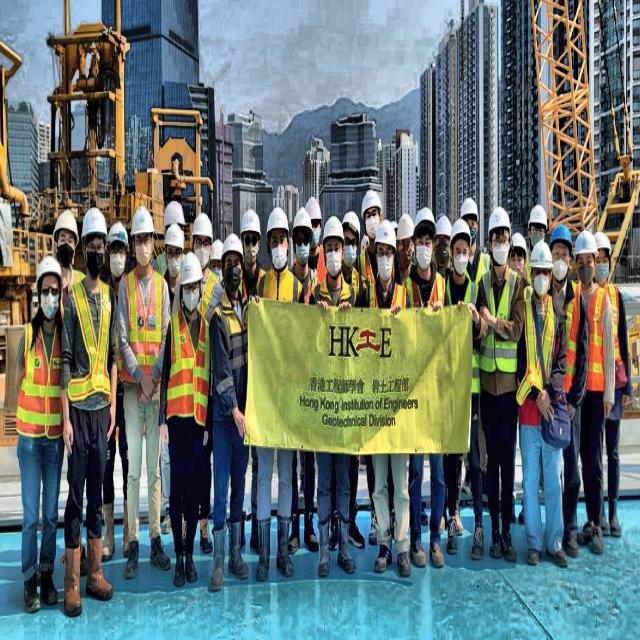safety_helmet: (26, 249, 66, 303), (128, 202, 157, 243), (412, 208, 443, 242), (179, 258, 205, 294), (268, 206, 290, 248), (241, 202, 261, 248), (532, 240, 557, 276), (550, 226, 576, 260), (85, 205, 107, 245), (304, 203, 332, 234), (448, 220, 472, 256), (485, 208, 513, 238), (222, 227, 243, 266), (524, 206, 553, 234), (360, 189, 387, 218), (571, 235, 602, 260), (321, 215, 344, 248), (57, 205, 78, 239), (193, 212, 213, 247), (379, 218, 396, 259), (161, 197, 184, 227), (111, 219, 128, 259), (590, 232, 615, 259), (164, 219, 186, 247), (343, 205, 362, 237), (294, 208, 312, 240), (508, 235, 526, 263), (397, 214, 411, 248), (208, 240, 222, 263)
safety_jacket: (65, 276, 115, 412), (13, 318, 66, 445), (563, 282, 618, 400), (117, 265, 169, 389), (162, 305, 212, 431), (442, 278, 486, 408), (514, 287, 558, 414), (478, 268, 524, 381), (370, 281, 408, 313)
